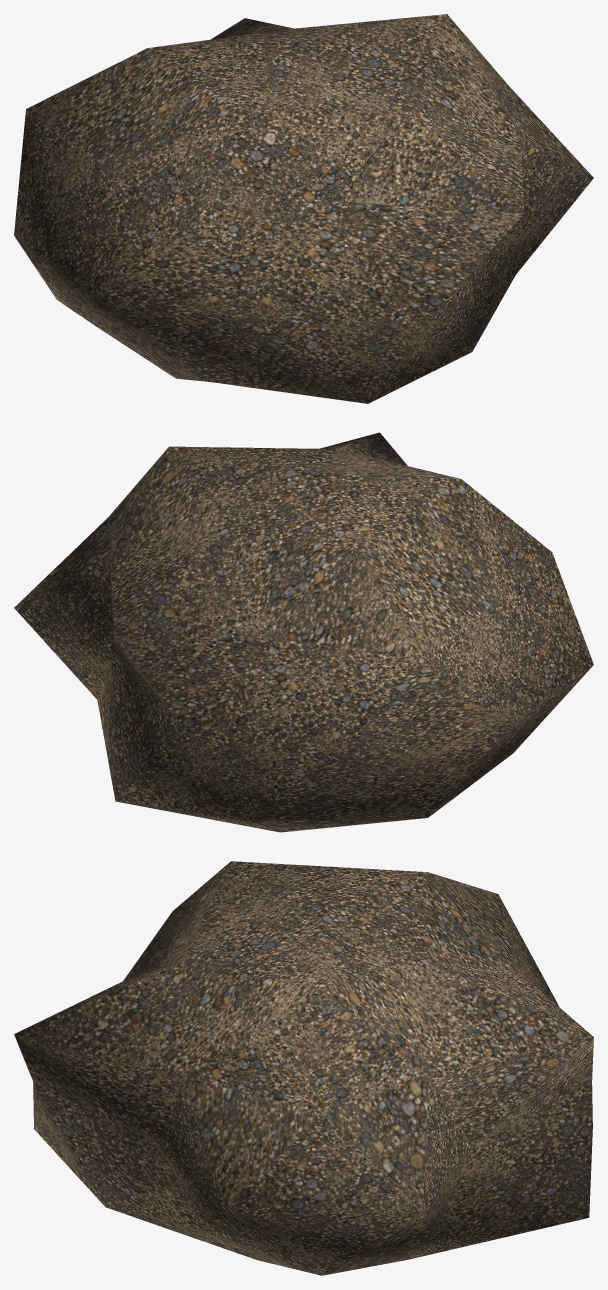
Rendered from level_hc_native_096_0.glb.
3 renders of one model, top to bottom at view 1: azimuth 30°, elevation 25°; view 2: azimuth 150°, elevation 25°; view 3: azimuth 270°, elevation 25°, orthographic. The views are drawn at different scales.
Parts seen in each view (by area): view 1: level_hc_native_096_0; view 2: level_hc_native_096_0; view 3: level_hc_native_096_0.
Boxes of the visible parts, bbox=[...] form: level_hc_native_096_0: bbox=[14, 14, 593, 403]; level_hc_native_096_0: bbox=[14, 432, 593, 832]; level_hc_native_096_0: bbox=[14, 861, 593, 1275].
Size of the model in its own units: 0.8016 by 0.5138 by 0.7594.
1 material, 1 textured.
